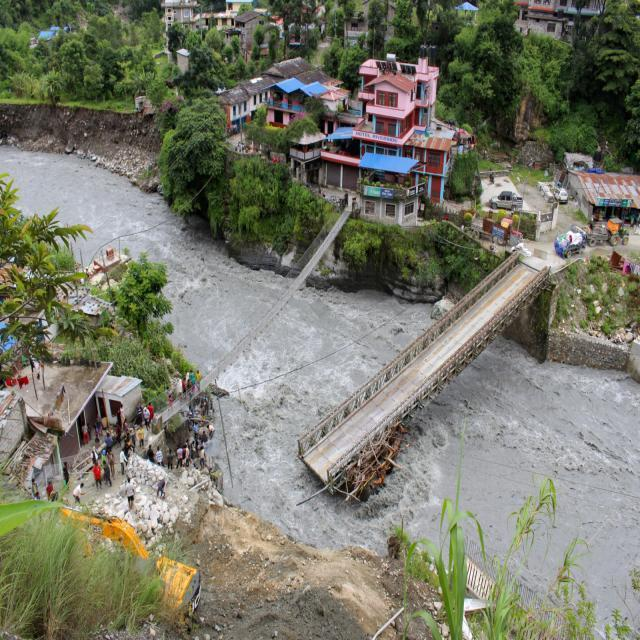flood: (212, 290, 640, 614), (0, 147, 283, 364)
house: (352, 57, 436, 164), (361, 154, 420, 223), (579, 166, 639, 232), (80, 369, 144, 428), (269, 78, 324, 125), (227, 71, 270, 122), (236, 10, 265, 34)
